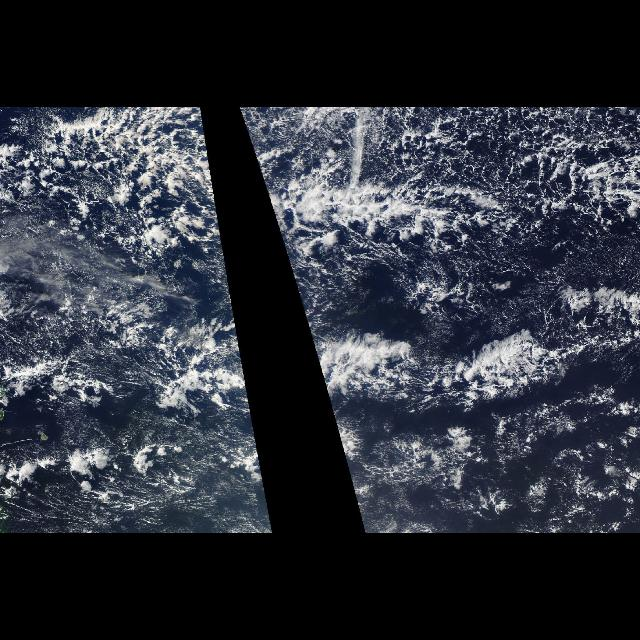Gravel: (253, 108, 629, 256)
